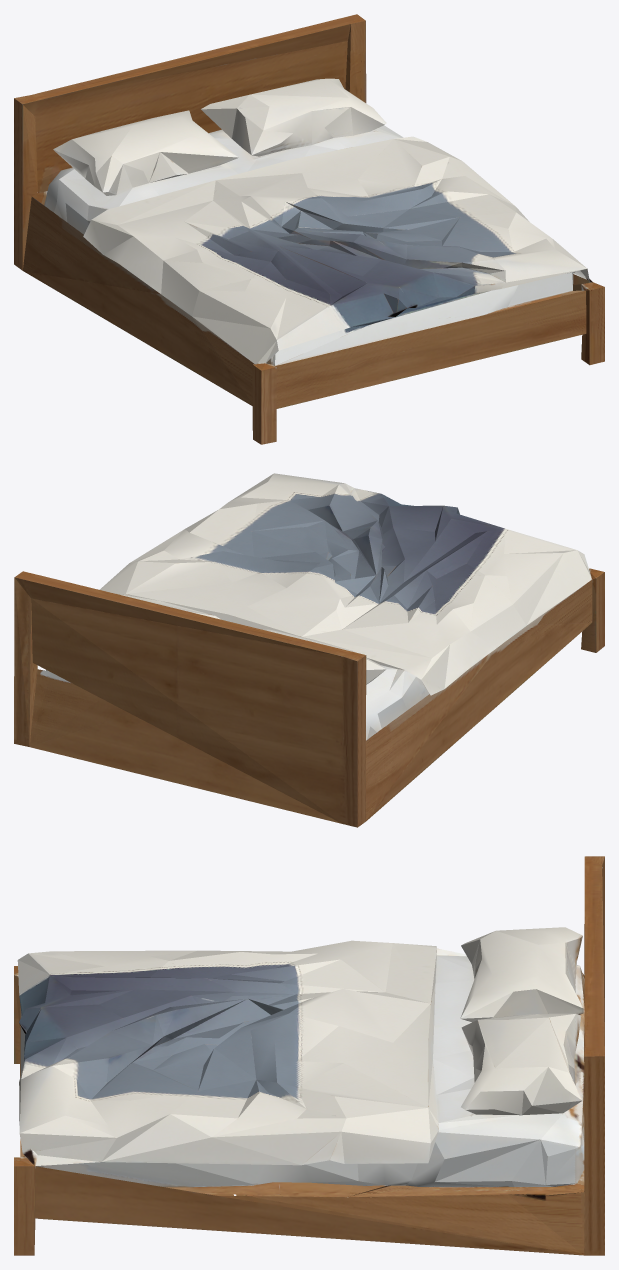
The model's file is home-bed.glb.
3 renders of one model, top to bottom at view 1: azimuth 30°, elevation 25°; view 2: azimuth 150°, elevation 25°; view 3: azimuth 270°, elevation 25°, orthographic. The views are drawn at different scales.
Bounding box in the file's own units: 1.57 × 0.7062 × 1.9.
Materials: 1 (1 with a texture image).
